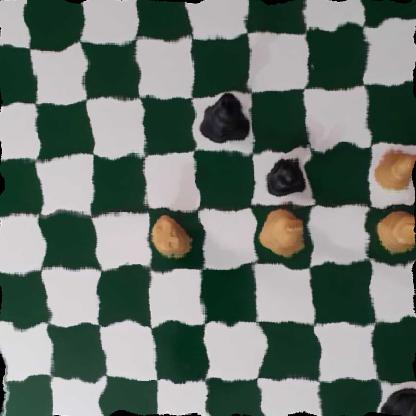black-king: (197, 94, 250, 150)
black-pawn: (263, 154, 307, 200)
black-rook: (380, 391, 416, 416)
white-bishop: (371, 206, 416, 254)
white-king: (259, 206, 311, 258)
white-pawn: (373, 148, 416, 192)
white-rook: (151, 214, 192, 261)
